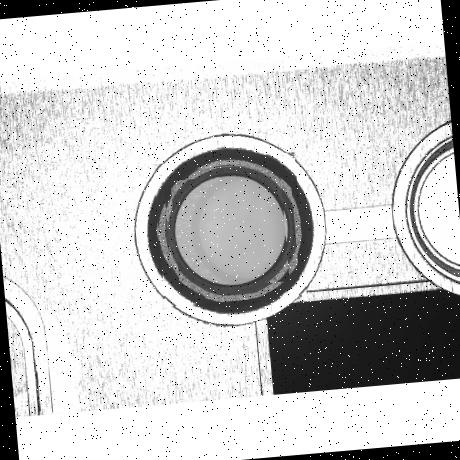Hole: (143, 141, 319, 321)
Hole2: (153, 152, 307, 306)
Hole3: (162, 160, 300, 300)
Hole4: (170, 172, 290, 290)
